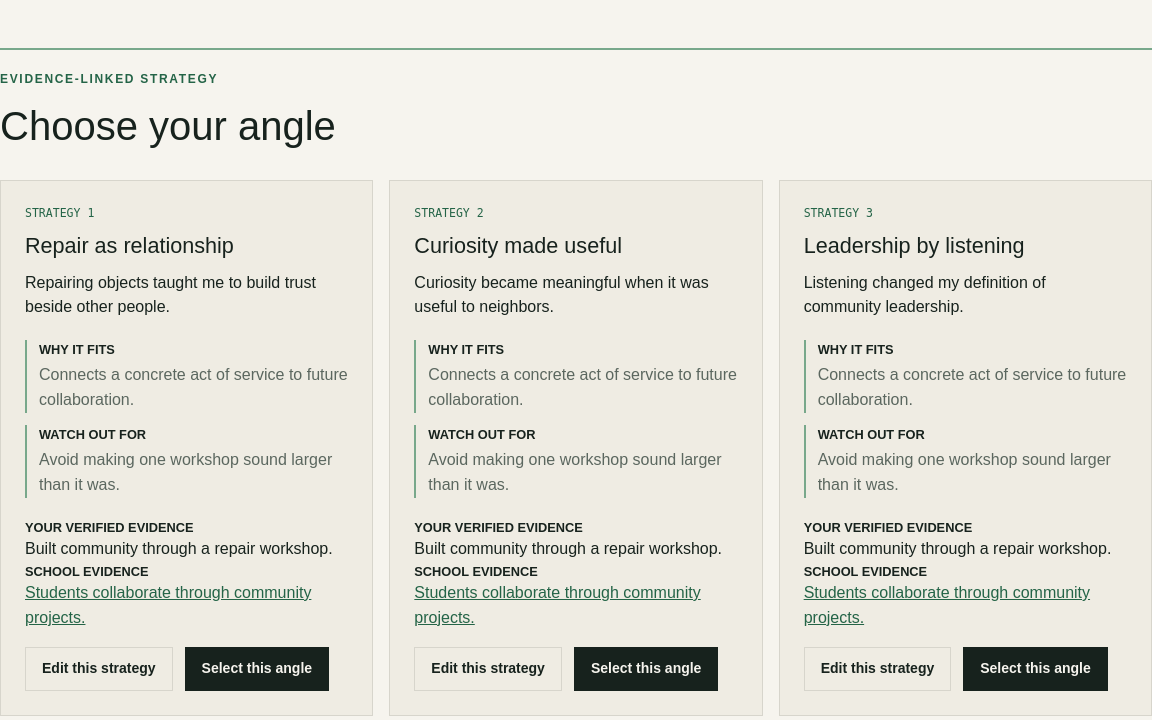
Test: angle comparison and selection › shows linked evidence, supports a working edit, and persists selection
Expected: the heading "Repair as relationship" is shown, [25, 233, 234, 258]
Expected: the number of list items "Built community through a repair workshop." is 3, [25, 537, 348, 562]; [414, 537, 738, 562]; [804, 537, 1127, 562]
Step 1. Click the 1st button "Edit this strategy" → (99, 669), box [25, 647, 173, 691]
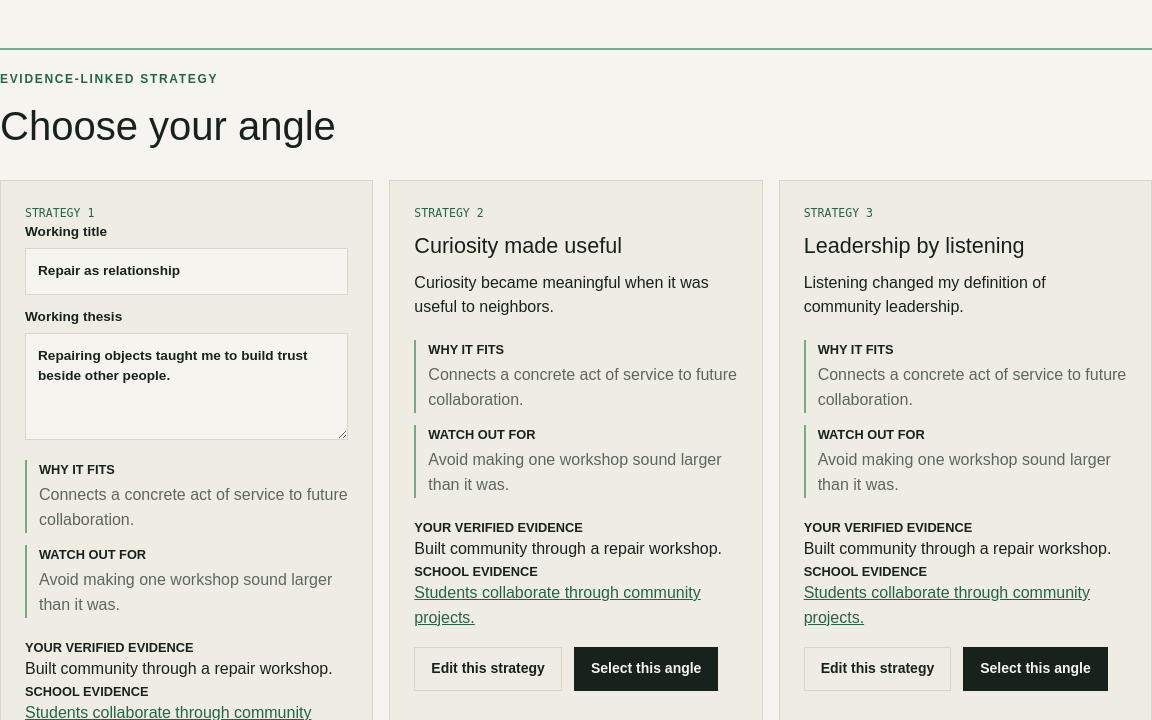
Step 2. Replace the text in the text box labelled "Working thesis" with "A sharper working thesis." → (187, 386), box [25, 333, 348, 440]
(page scrolled)
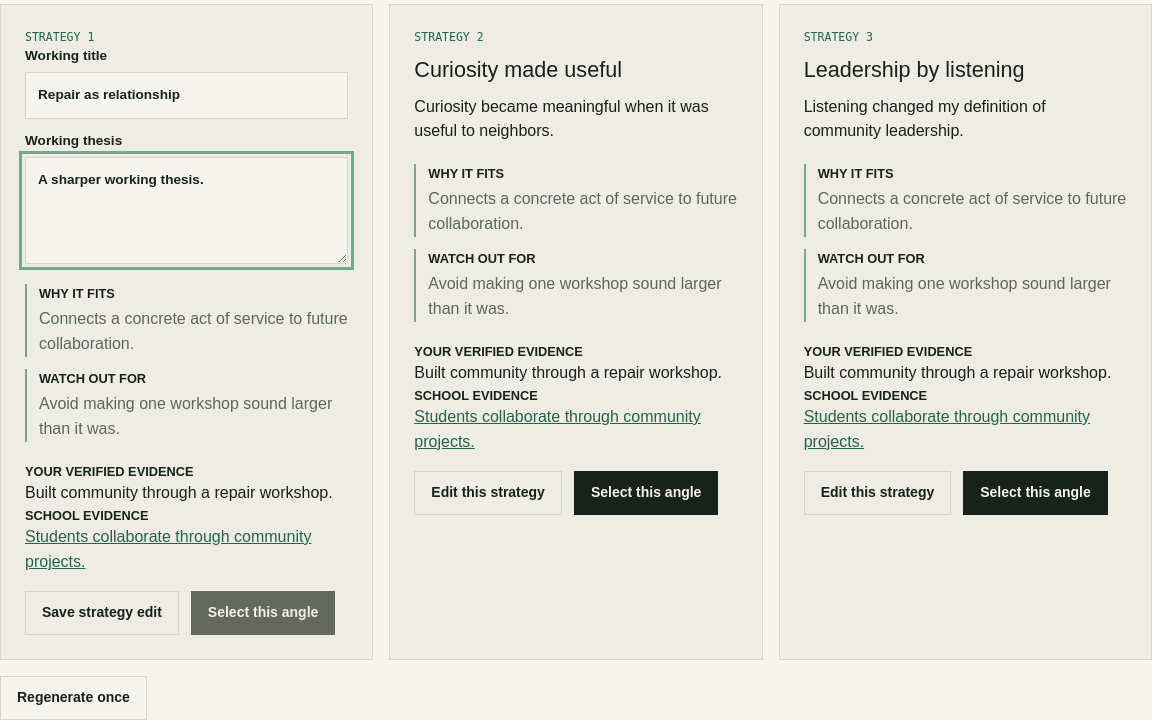
Step 3. Click the button "Save strategy edit" → (102, 612), box [25, 590, 179, 634]
(page scrolled)
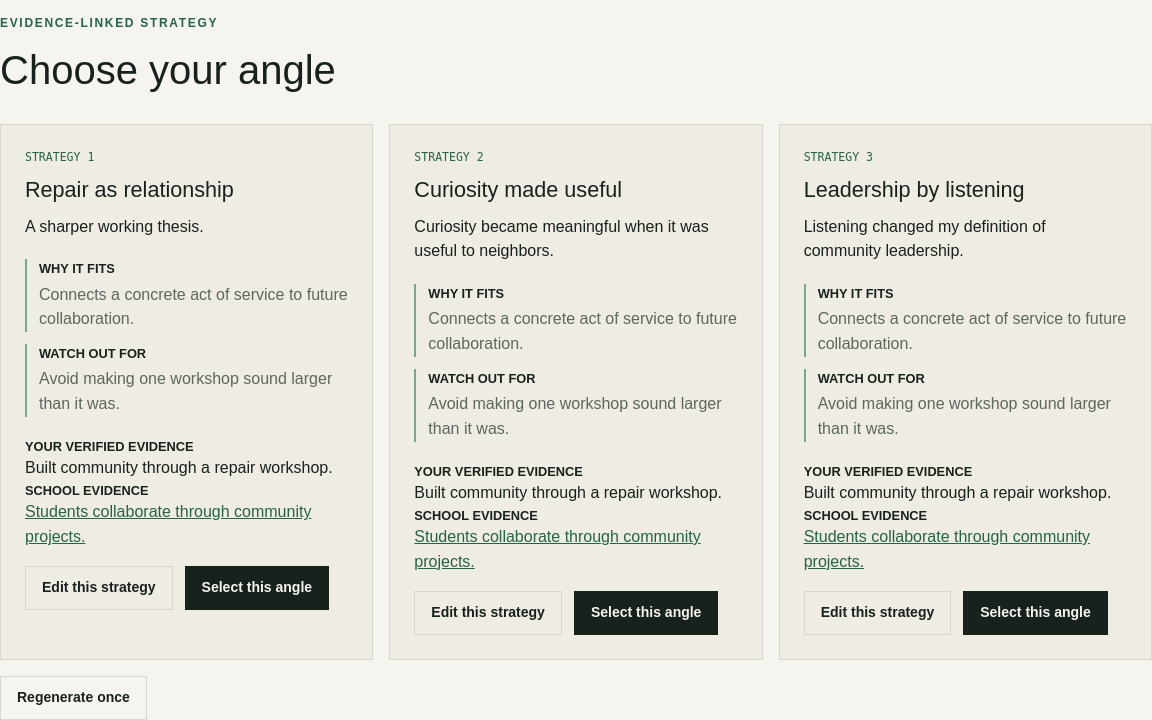
Step 4. Click the 1st button "Select this angle" → (257, 588), box [185, 566, 329, 610]
(page scrolled)
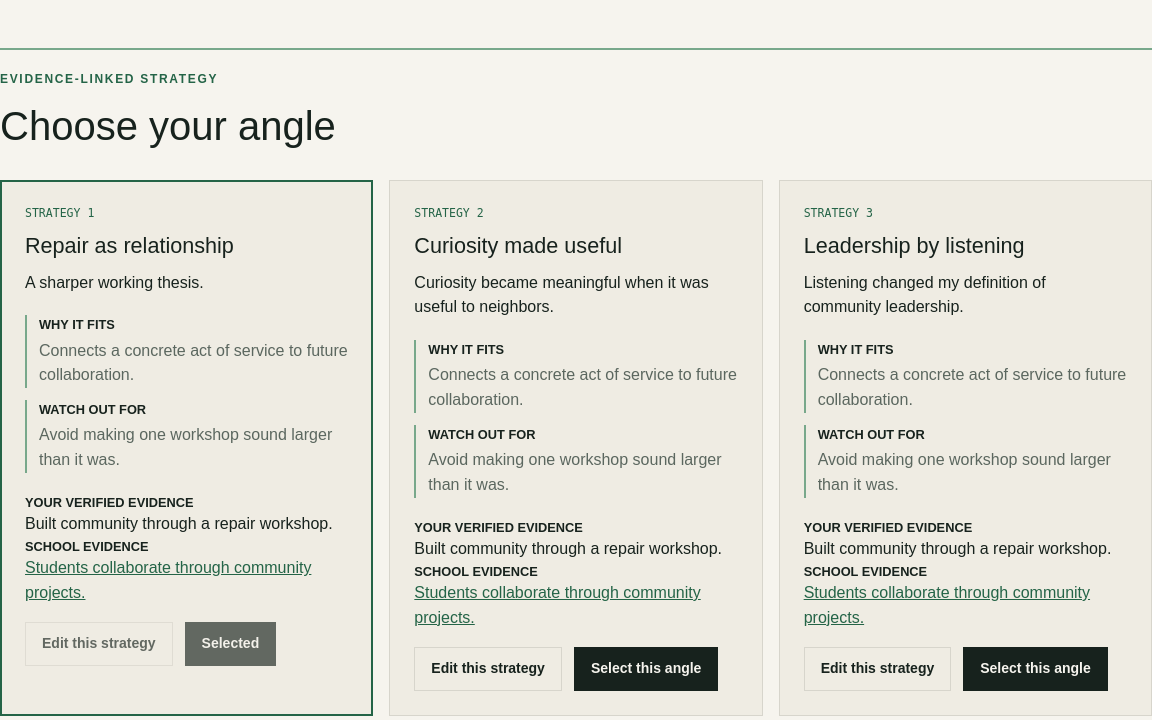
Result: the button "Selected" is shown at [185, 622, 276, 666]
